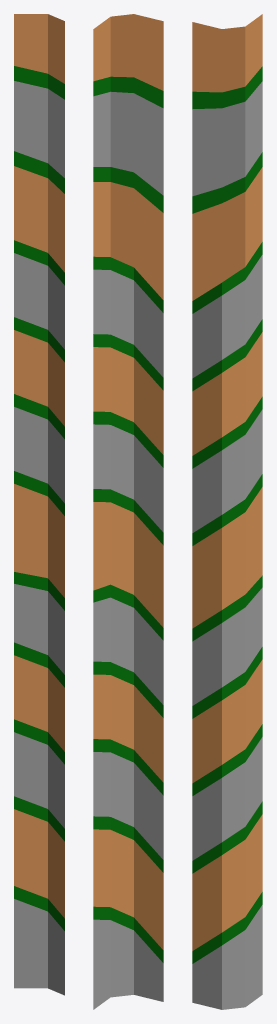
File: Coluna.fbx
3 renders of one model, left to right at view 1: azimuth 90°, elevation 25°; view 2: azimuth 150°, elevation 25°; view 3: azimuth 330°, elevation 25°, orthographic.
Parts seen in each view (by area): view 1: Coluna Coluna; view 2: Coluna Coluna; view 3: Coluna Coluna.
Boxes of the visible parts, bbox=[...] form: Coluna Coluna: bbox=[14, 14, 64, 995]; Coluna Coluna: bbox=[93, 14, 163, 1009]; Coluna Coluna: bbox=[192, 14, 262, 1009].
Bounding box in the file's own units: 45 × 950 × 45.
